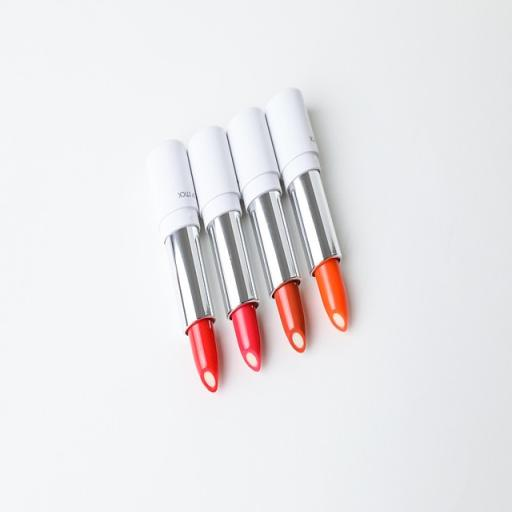lipstick: (266, 89, 347, 330), (228, 108, 305, 352), (147, 141, 218, 392), (188, 126, 260, 370)
